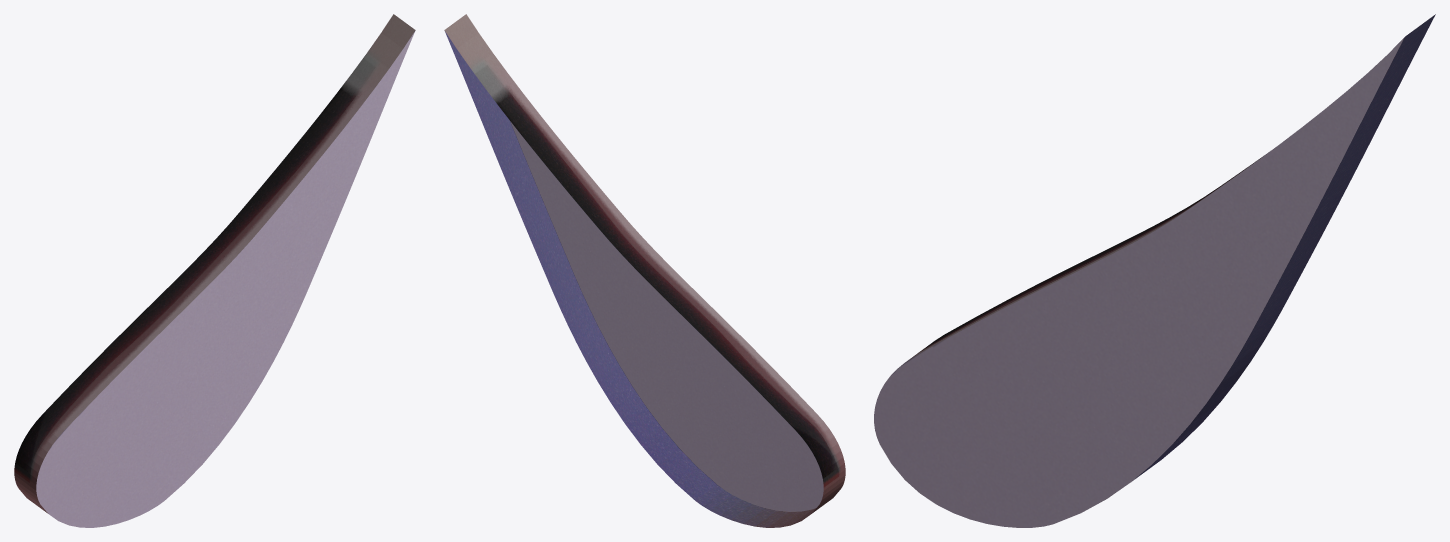
The model's file is icon_thymeleaf_white.glb.
3 views of the same model, side by side, from view 1: azimuth 30°, elevation 25°; view 2: azimuth 150°, elevation 25°; view 3: azimuth 330°, elevation 25° (orthographic). The views are drawn at different scales.
Parts seen in each view (by area): view 1: icon_thymeleaf_white; view 2: icon_thymeleaf_white; view 3: icon_thymeleaf_white.
Boxes of the visible parts, box(x1,y1,x2,y2) form: icon_thymeleaf_white: box(14, 14, 415, 527); icon_thymeleaf_white: box(444, 14, 845, 527); icon_thymeleaf_white: box(874, 14, 1435, 527).
Bounding box in the file's own units: 1.76 × 1.86 × 0.1767.
1 material, 1 textured.
